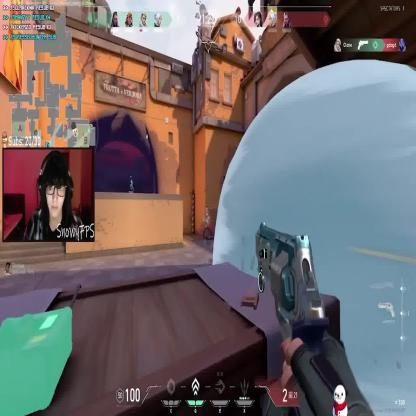enemy: (204, 210, 214, 241)
enemy_head: (204, 210, 209, 216)
